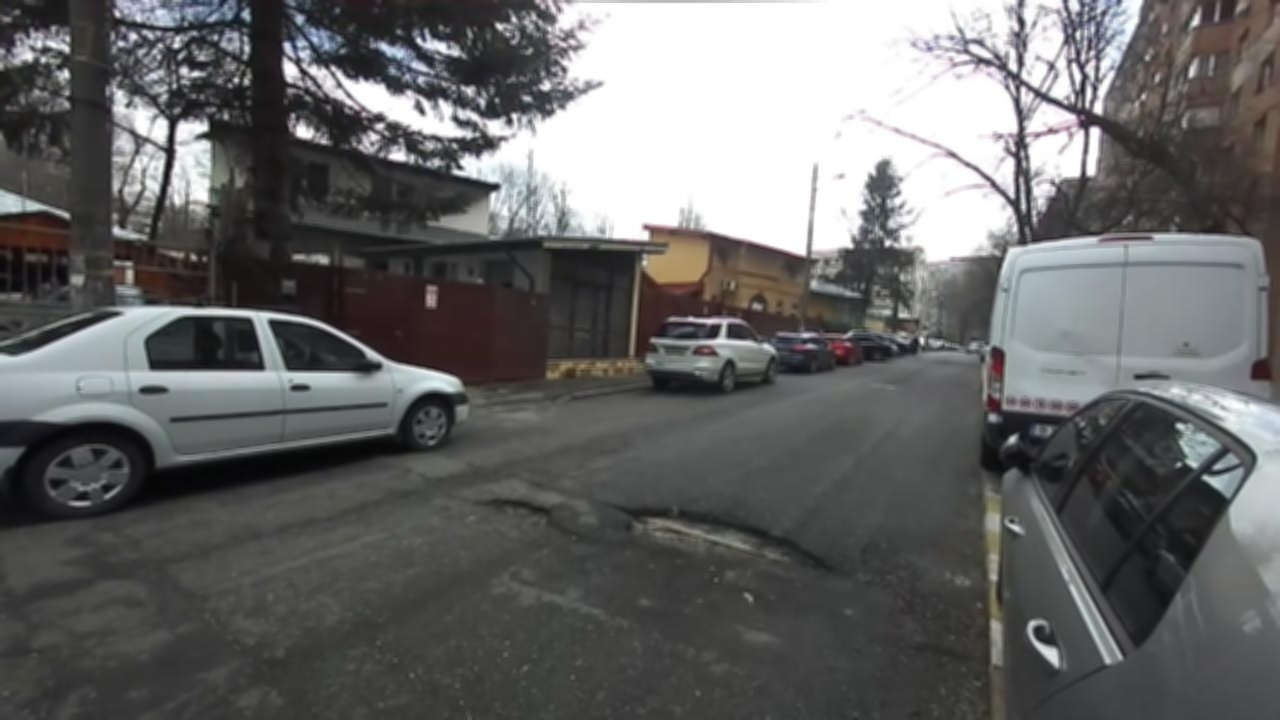pothole: (607, 500, 847, 578), (467, 493, 575, 542)
